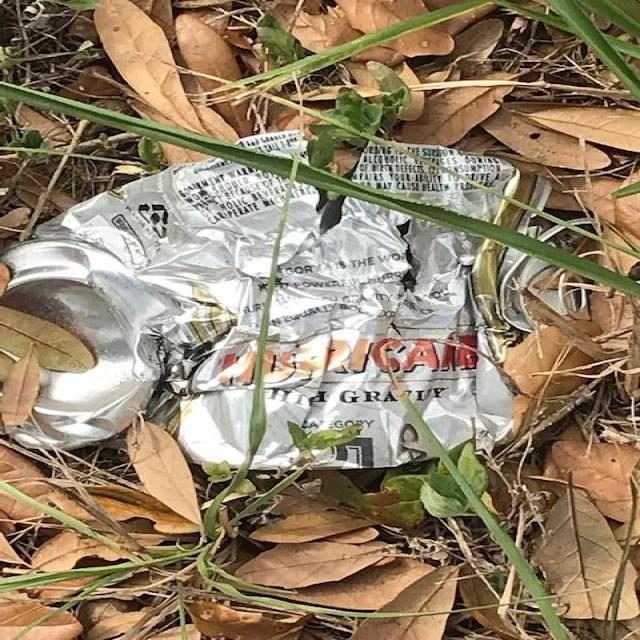litter: (184, 30, 631, 478)
